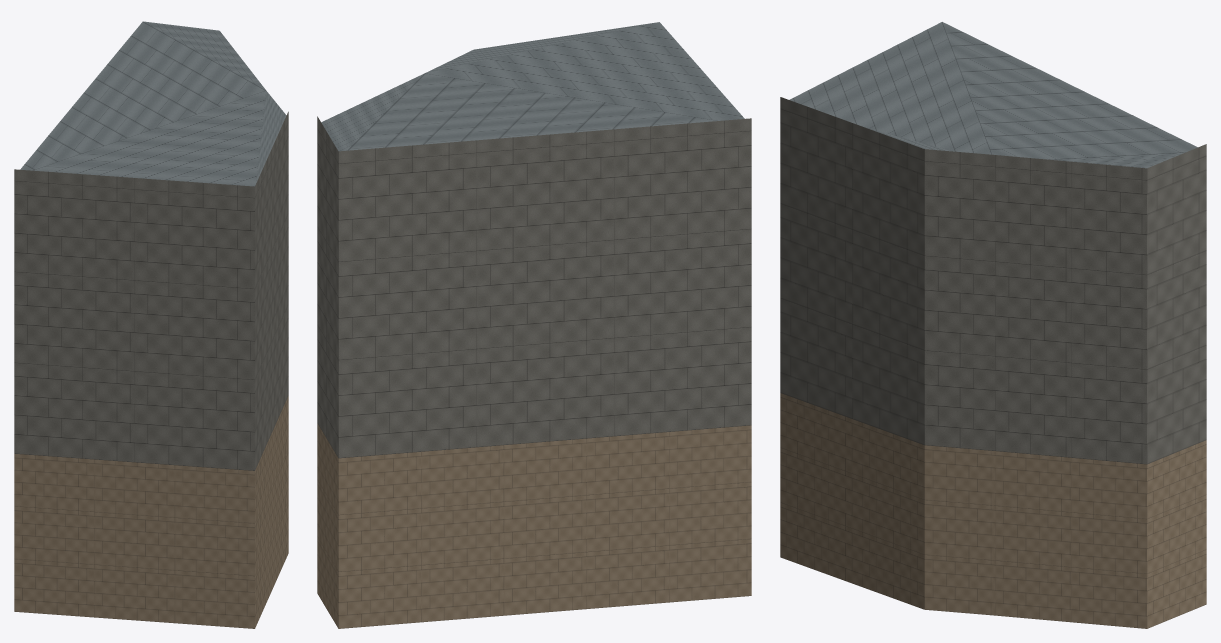
The model's file is bld_c41_33_291.gltf.
3 views of the same model, side by side, from view 1: azimuth 30°, elevation 25°; view 2: azimuth 150°, elevation 25°; view 3: azimuth 270°, elevation 25° (orthographic). The views are drawn at different scales.
Visible parts, largest first — view 1: bld_c41_33_291; view 2: bld_c41_33_291; view 3: bld_c41_33_291.
Part boxes in pixels (x1,y1,x2,y2): bld_c41_33_291: (14, 21, 288, 628); bld_c41_33_291: (317, 22, 751, 628); bld_c41_33_291: (780, 22, 1206, 628).
Size of the model in its own units: 10.26 by 14.28 by 11.98.
4 materials, 4 textured.
